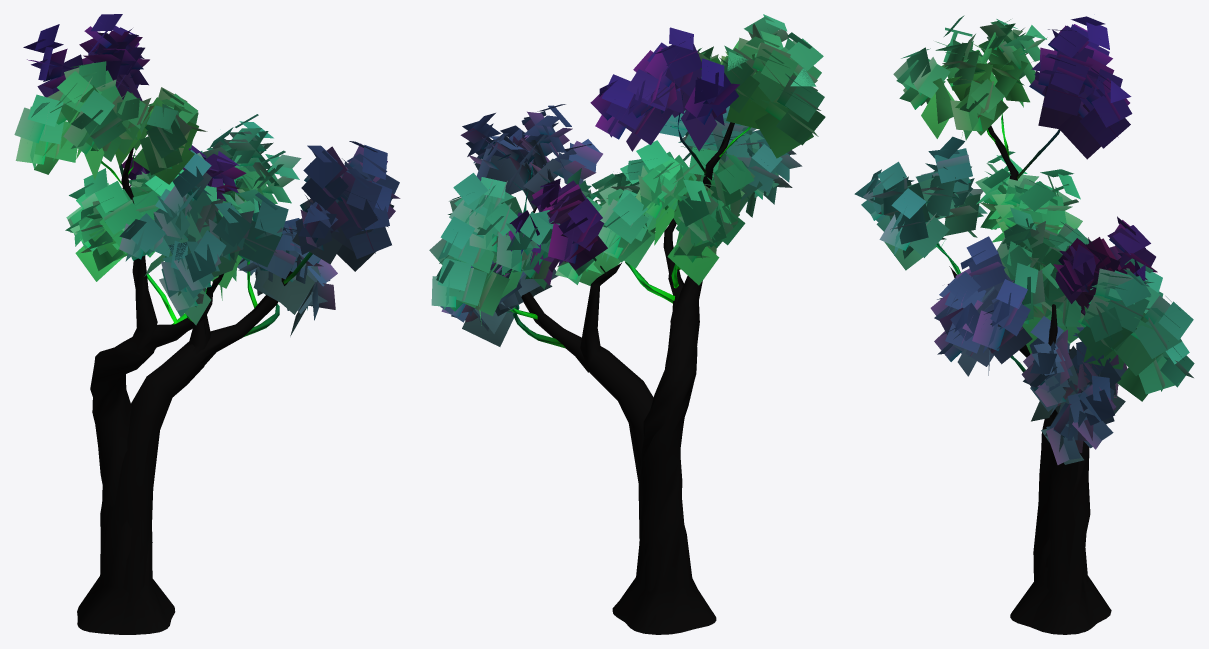
File: Tree_6.fbx
3 views of the same model, side by side, from view 1: azimuth 30°, elevation 25°; view 2: azimuth 150°, elevation 25°; view 3: azimuth 270°, elevation 25° (orthographic). The views are drawn at different scales.
Visible parts, largest first — view 1: Tree_2; view 2: Tree_2; view 3: Tree_2.
Part boxes in pixels (box(x1,y1,x2,y2)): Tree_2: box(14, 14, 400, 634); Tree_2: box(429, 14, 825, 634); Tree_2: box(854, 15, 1194, 634).
Size of the model in its own units: 562 by 862 by 458.
